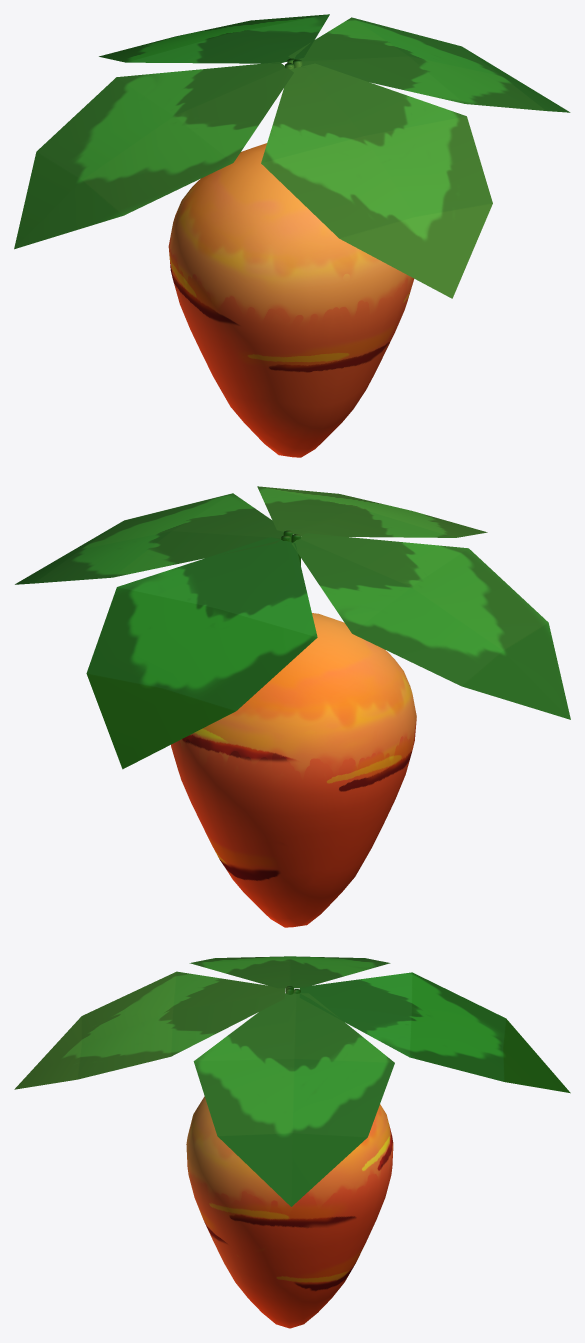
Rendered from SM_Char_Carrot.fbx.
The picture shows the model from 3 angles, top to bottom: view 1: azimuth 30°, elevation 25°; view 2: azimuth 150°, elevation 25°; view 3: azimuth 270°, elevation 25°; orthographic projection. The views are drawn at different scales.
Parts seen in each view (by area): view 1: Top 3, Body 3; view 2: Top 3, Body 3; view 3: Top 3, Body 3.
Boxes of the visible parts, bbox=[...] form: Top 3: bbox=[14, 14, 570, 298]; Body 3: bbox=[168, 143, 413, 457]; Top 3: bbox=[15, 486, 570, 769]; Body 3: bbox=[171, 613, 416, 927]; Top 3: bbox=[14, 956, 570, 1206]; Body 3: bbox=[186, 1096, 393, 1328].
Bounding box in the file's own units: 796 × 538 × 800.
Materials: 2 (2 with a texture image).
